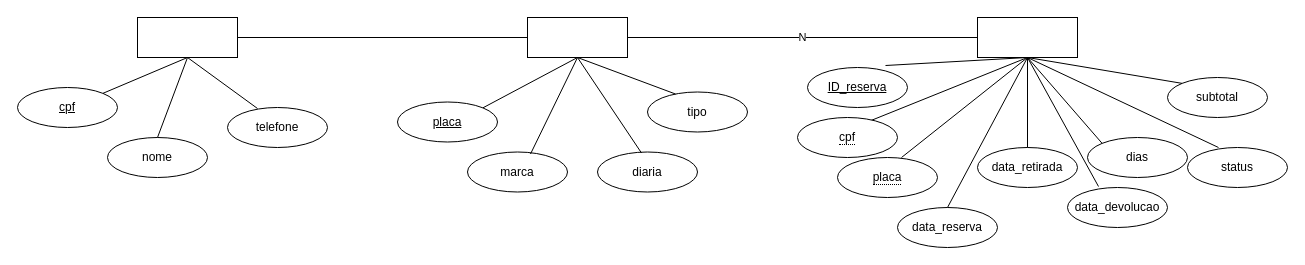
Some shapes in this 1305 by 265 pixel diagram are drawn without their labels. Here are the shapes that lost their labels. From the top down, the box of each, then its label:
(136, 16, 238, 58): cliente
(526, 16, 628, 58): veiculo
(976, 16, 1078, 58): reserva
